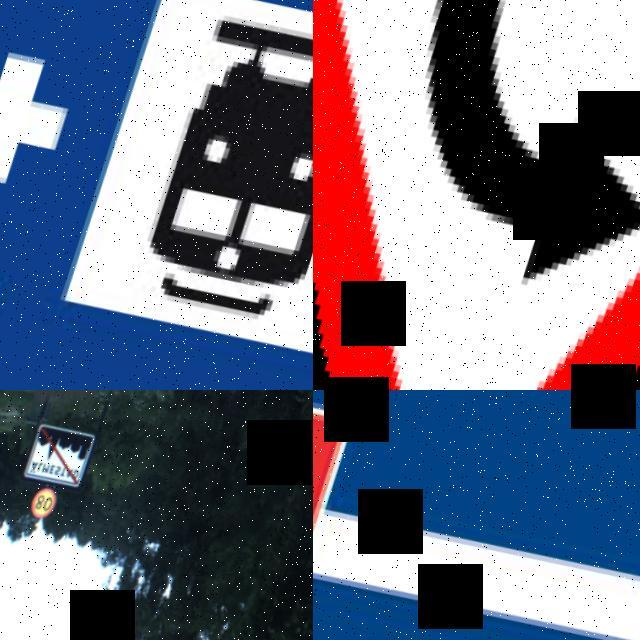128: (24, 417, 104, 496)
178: (313, 390, 640, 640)
55: (28, 481, 67, 528)
60: (0, 0, 313, 390)
Right curve: (313, 0, 640, 390)
